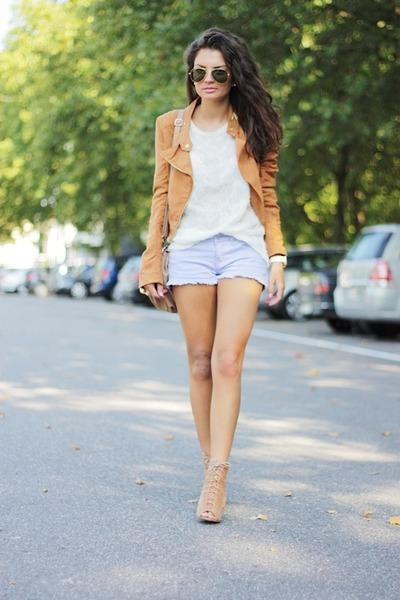bag: (147, 281, 179, 312)
jacket: (140, 107, 290, 296)
shirt: (174, 122, 266, 258)
shoe: (190, 452, 234, 529)
shorts: (167, 231, 275, 285)
sunglass: (209, 63, 231, 100)
